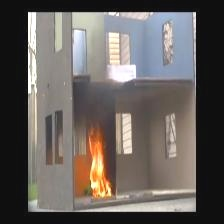fire: (79, 122, 118, 199)
